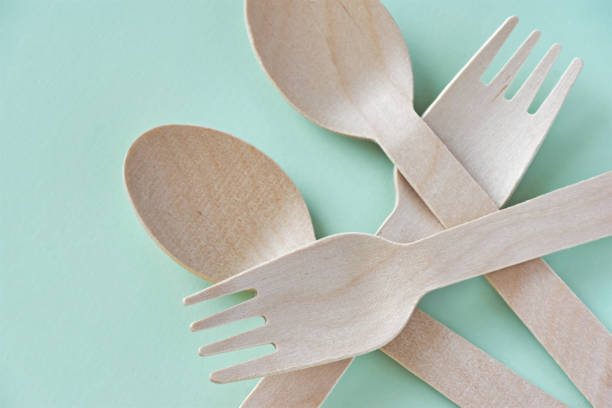Wooden Utensils: (119, 7, 584, 386)
